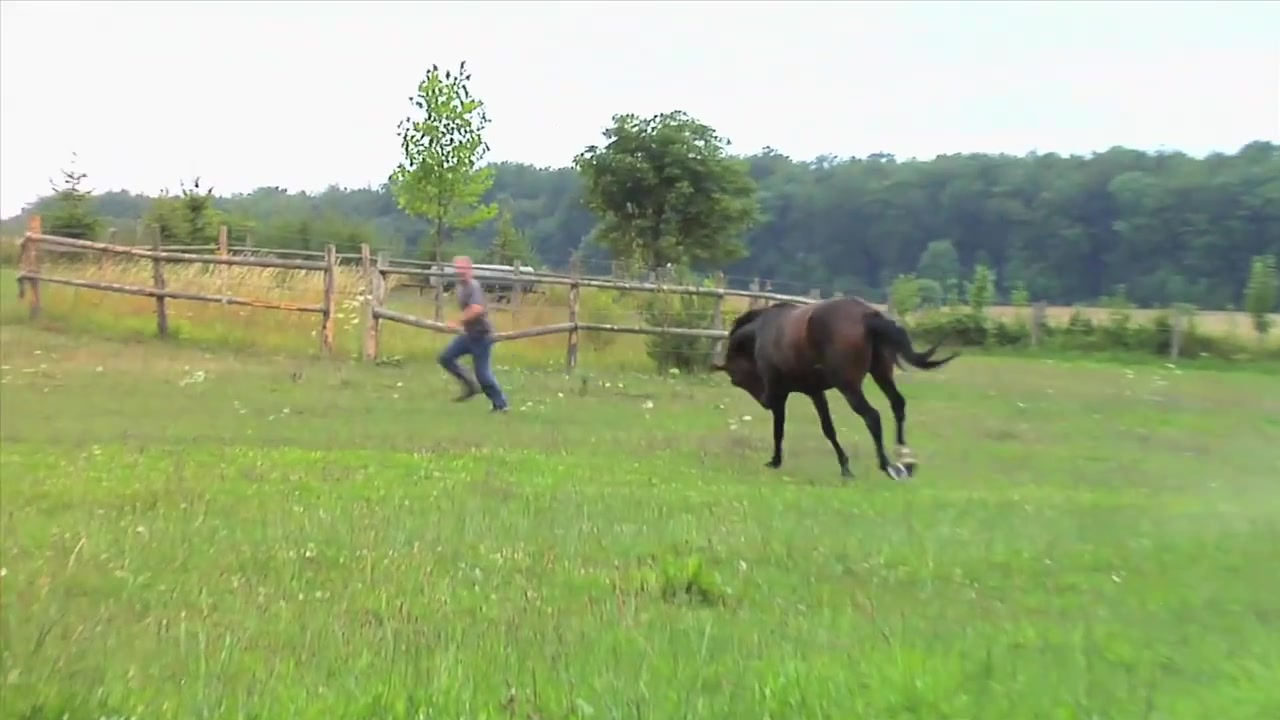horse: (710, 298, 963, 481)
